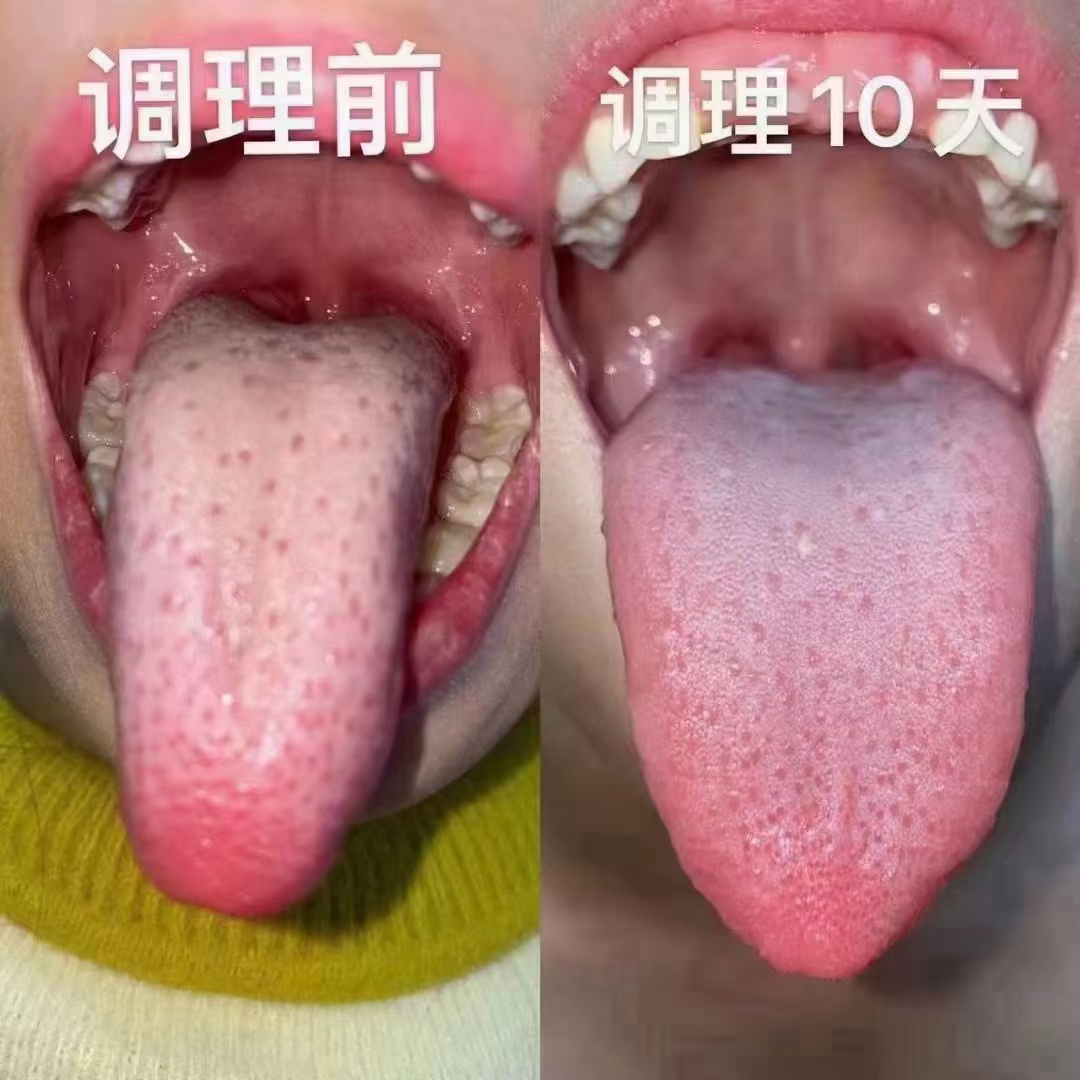baitaishe: (604, 356, 1034, 981), (110, 295, 454, 920)
hongdianshe: (283, 431, 307, 457), (183, 547, 201, 573), (264, 477, 278, 496), (873, 805, 885, 821)
hongshe: (604, 356, 1034, 981), (108, 294, 452, 919)
shoushe: (108, 293, 452, 918)
